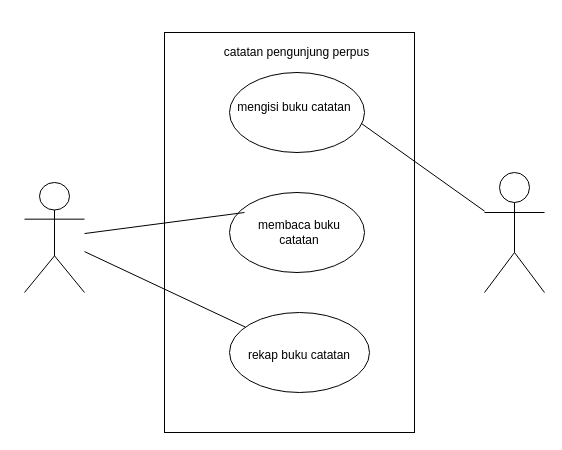
The diagram is 562 pixels wide and 450 high, and some of its shapes have lost their labels. The centre of each missing label's shape, as x and y in pixels:
"anggota" belongs at pixel 514 232.
"perputakawan" belongs at pixel 54 237.
